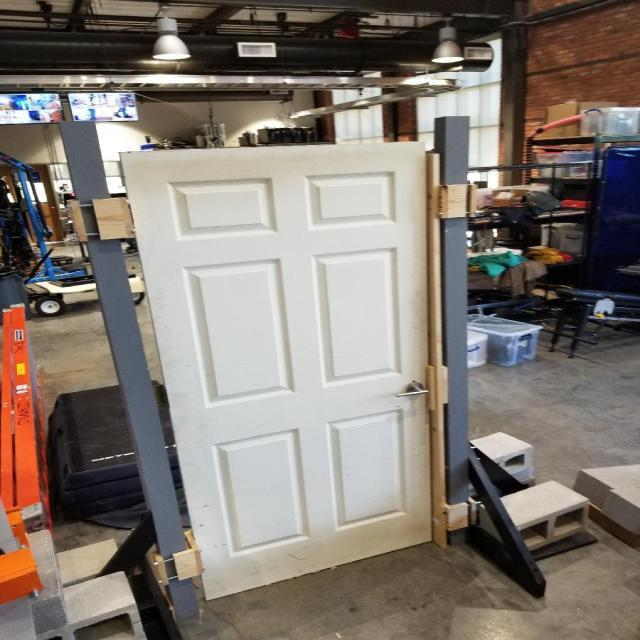door: (114, 140, 434, 602), (393, 378, 433, 399)
